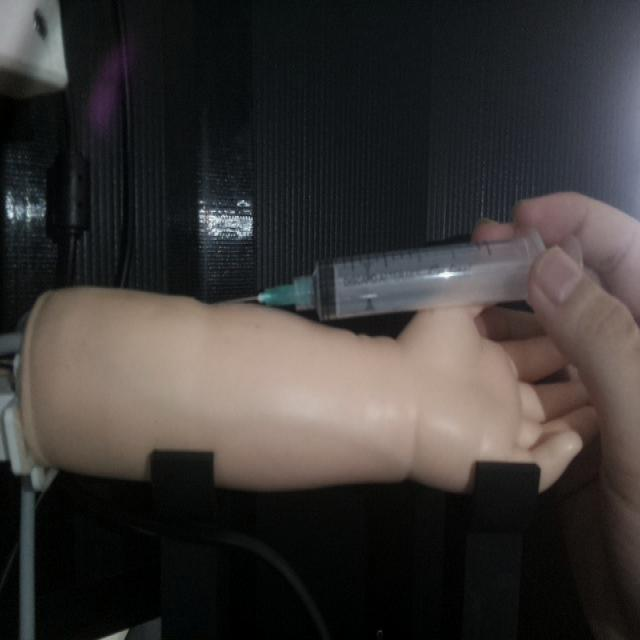Below 15 degrees: (228, 224, 556, 323)
